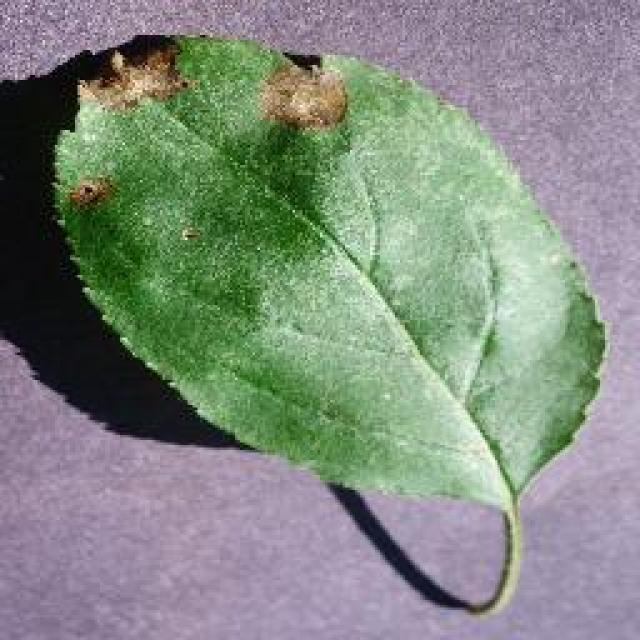apple black rot: (0, 30, 608, 615)
